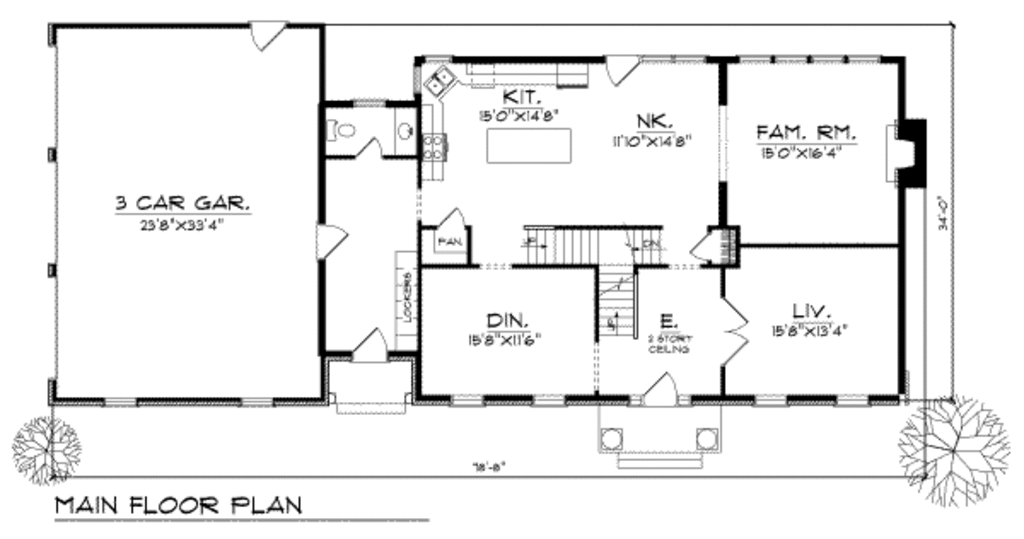door: (719, 296, 753, 369), (346, 328, 391, 365), (601, 54, 643, 91), (642, 370, 679, 412), (314, 218, 349, 260), (244, 20, 287, 50), (432, 204, 464, 232), (353, 135, 384, 161), (689, 232, 710, 263)
large_sink: (320, 118, 359, 144)
small_sink: (393, 105, 427, 161)
stairs: (528, 225, 662, 339)
twin_sink: (420, 68, 457, 97)
windows: (729, 48, 882, 68), (750, 390, 791, 412), (523, 393, 570, 412), (448, 391, 489, 412), (829, 393, 872, 412), (97, 394, 138, 411), (231, 398, 278, 410)
